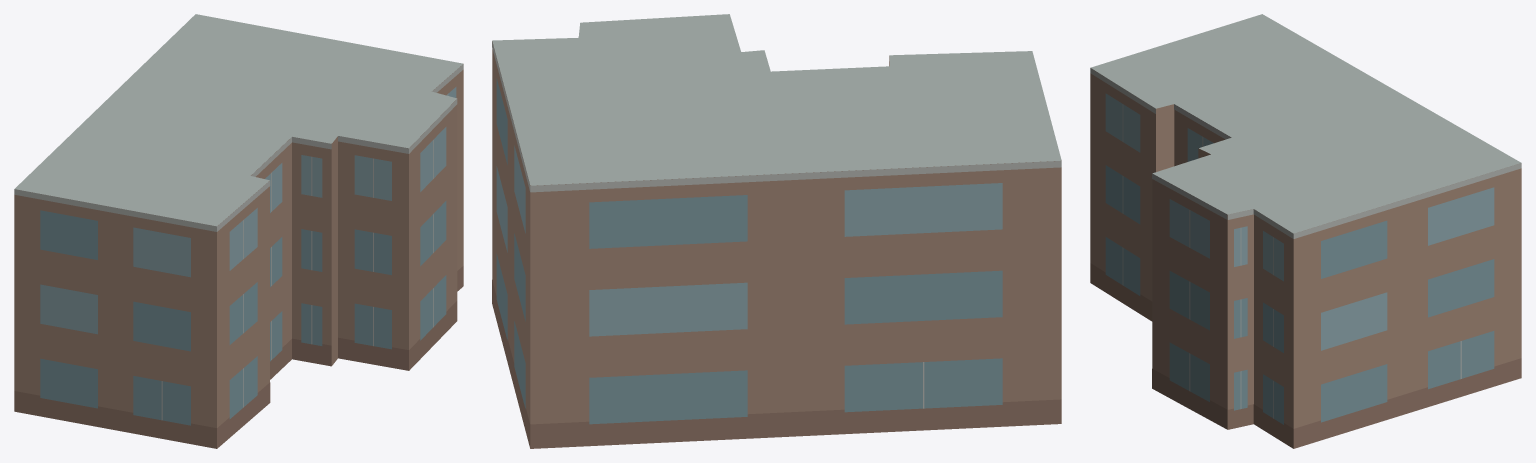
Rendered from survey-upis-32541133.glb.
3 views of the same model, side by side, from view 1: azimuth 30°, elevation 25°; view 2: azimuth 150°, elevation 25°; view 3: azimuth 270°, elevation 25° (orthographic). The views are drawn at different scales.
Parts seen in each view (by area): view 1: survey-upis-32541133.tmp; view 2: survey-upis-32541133.tmp; view 3: survey-upis-32541133.tmp.
Part boxes in pixels (left/top/right/bottom): survey-upis-32541133.tmp: left=14, top=14, right=463, bottom=448; survey-upis-32541133.tmp: left=492, top=14, right=1061, bottom=448; survey-upis-32541133.tmp: left=1090, top=14, right=1521, bottom=448.
Size of the model in its own units: 21.02 by 9.6 by 17.44.
